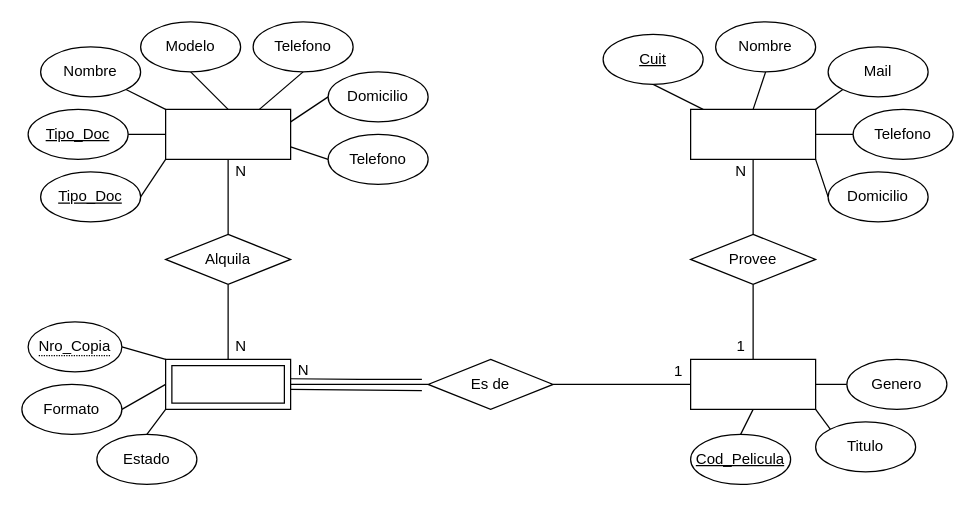
Some shapes in this 975 by 506 pixel diagram are drawn without their labels. The centre of each missing label's shape, as x and y in pixels:
"Cliente" goes at [227,133].
"Copia" goes at [227,383].
"Pelicula" goes at [752,383].
"Provedor" goes at [752,133].
